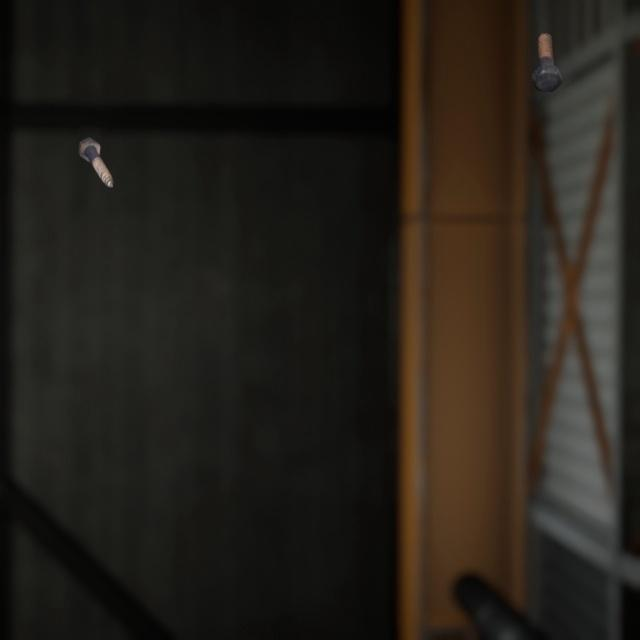bolt: (527, 19, 566, 86), (73, 120, 118, 178)
